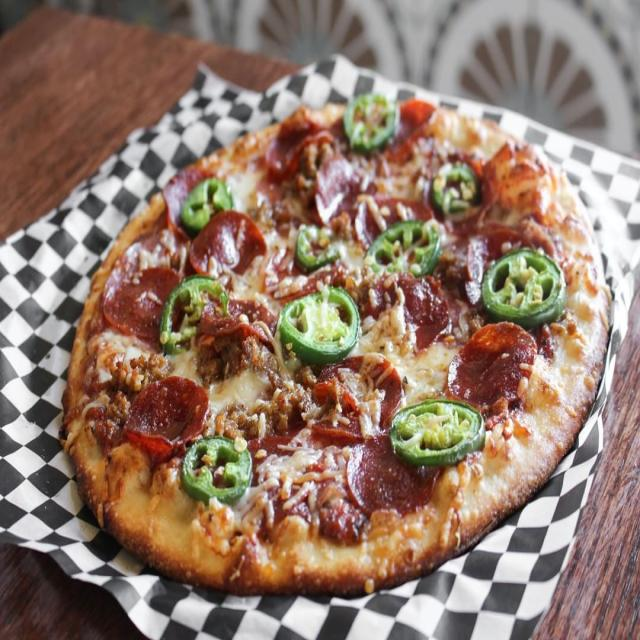pepperoni: (102, 229, 188, 346), (308, 354, 402, 440), (448, 322, 538, 410), (124, 377, 209, 460), (190, 210, 266, 275), (354, 193, 432, 248), (315, 154, 361, 225), (466, 236, 489, 305)
pizza: (60, 94, 610, 594)
